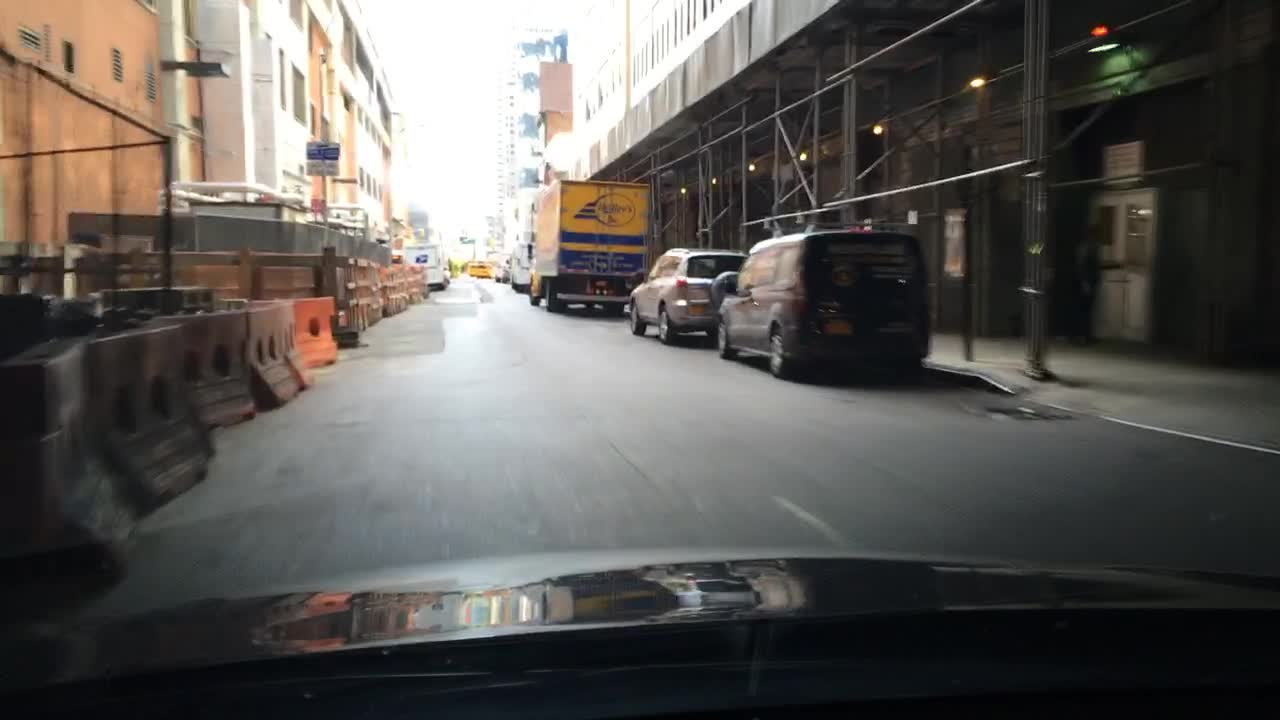bus: (400, 243, 449, 290), (502, 243, 539, 292), (494, 244, 515, 282), (476, 259, 496, 280), (466, 259, 481, 282), (488, 260, 497, 277)
car: (713, 228, 934, 382), (625, 244, 756, 343), (438, 261, 454, 283)
traffic sign: (940, 209, 966, 278), (305, 140, 337, 160), (303, 157, 338, 175)
truck: (525, 177, 658, 314)
